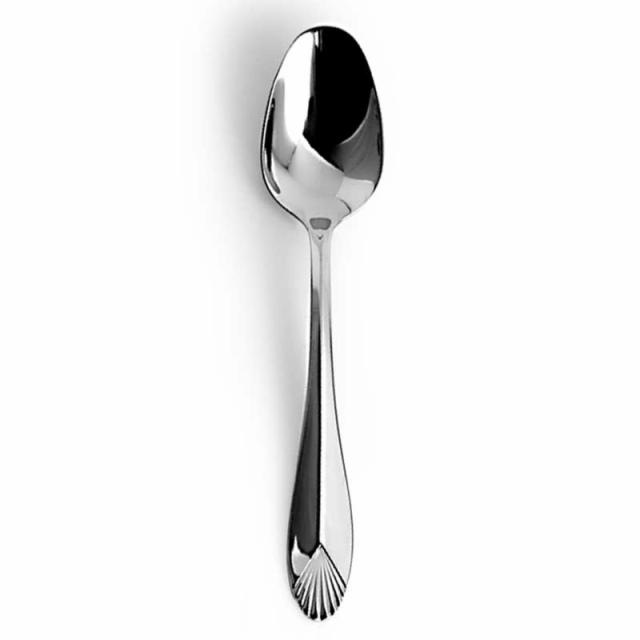spoon: (244, 16, 405, 627)
